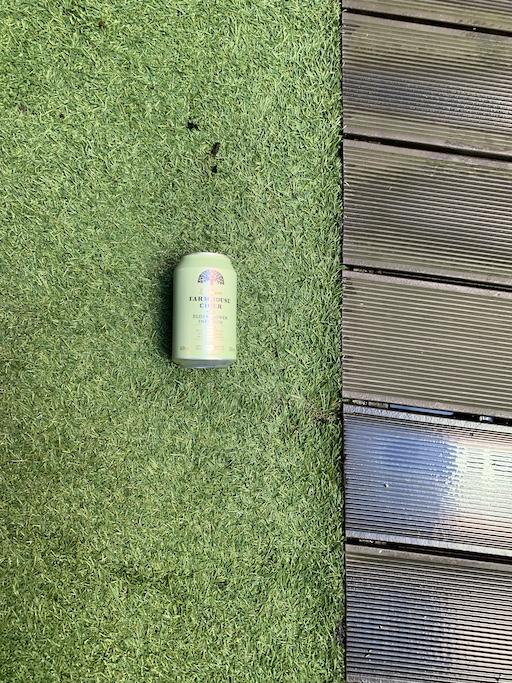Aluminum can: (155, 241, 274, 392)
